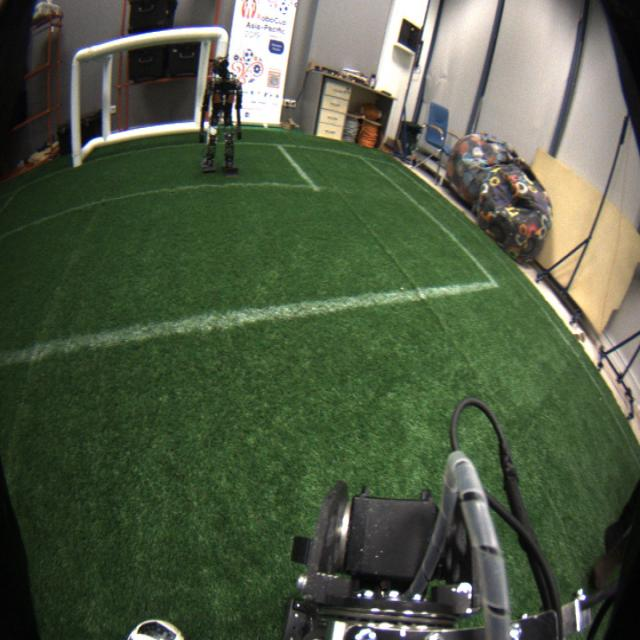ball: (126, 620, 190, 640)
goalpost: (204, 27, 232, 147), (70, 51, 82, 166)
